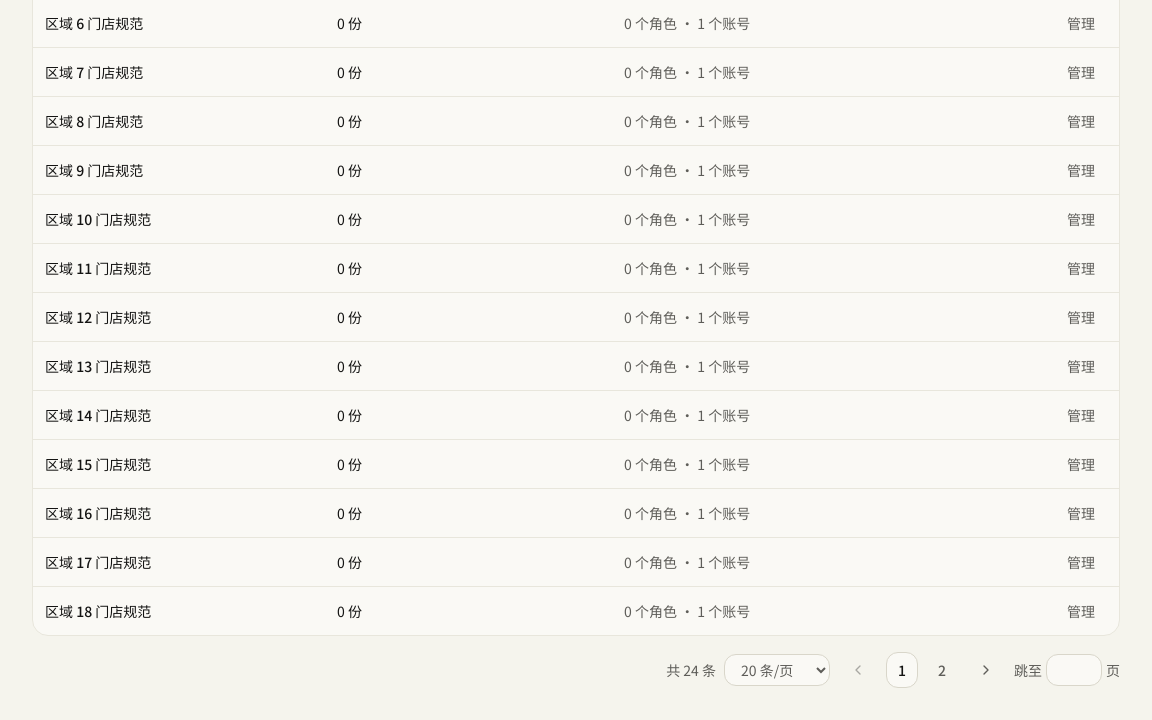
Test: 知识库列表 › 分页列出知识库，显示文档数、失败数和授权情况
The width and height of the screenshot is (1152, 720).
(page scrolled)
Expected: the text "共 24 条" is shown, [666,660,716,680]
Click the button named "下一页". click: (986, 670)
box: [966,652,1006,688]
(page scrolled)
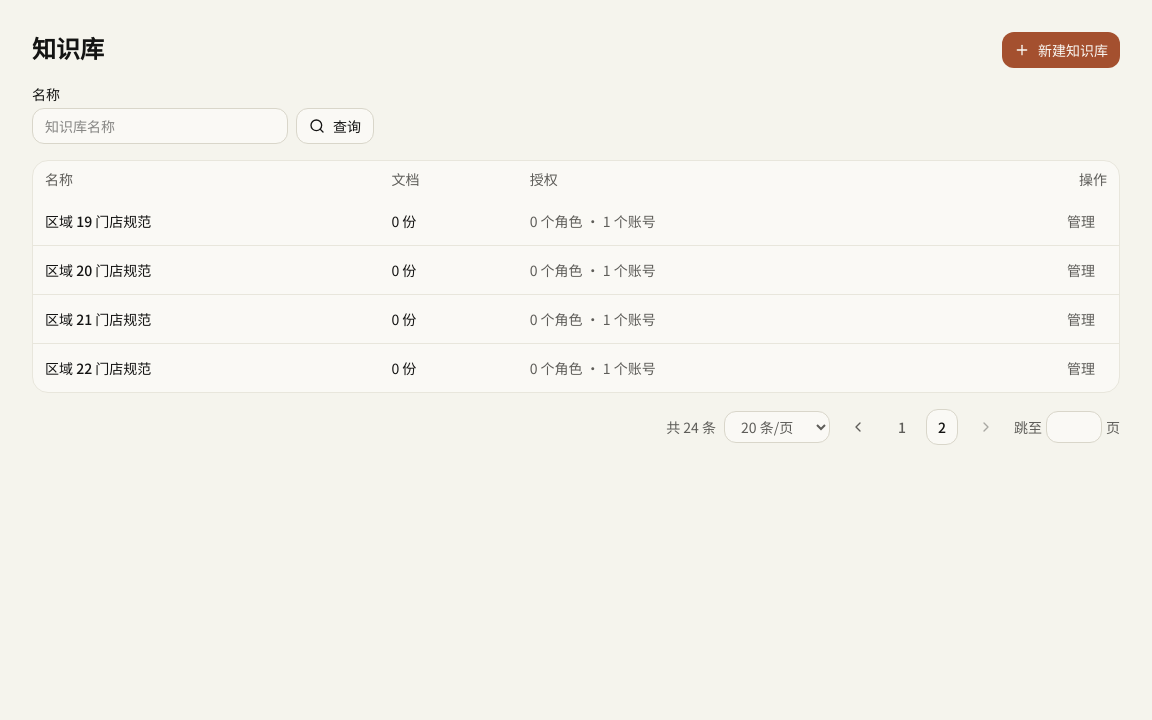
Expected: the link "区域 22 门店规范" is shown, [45,358,151,378]
